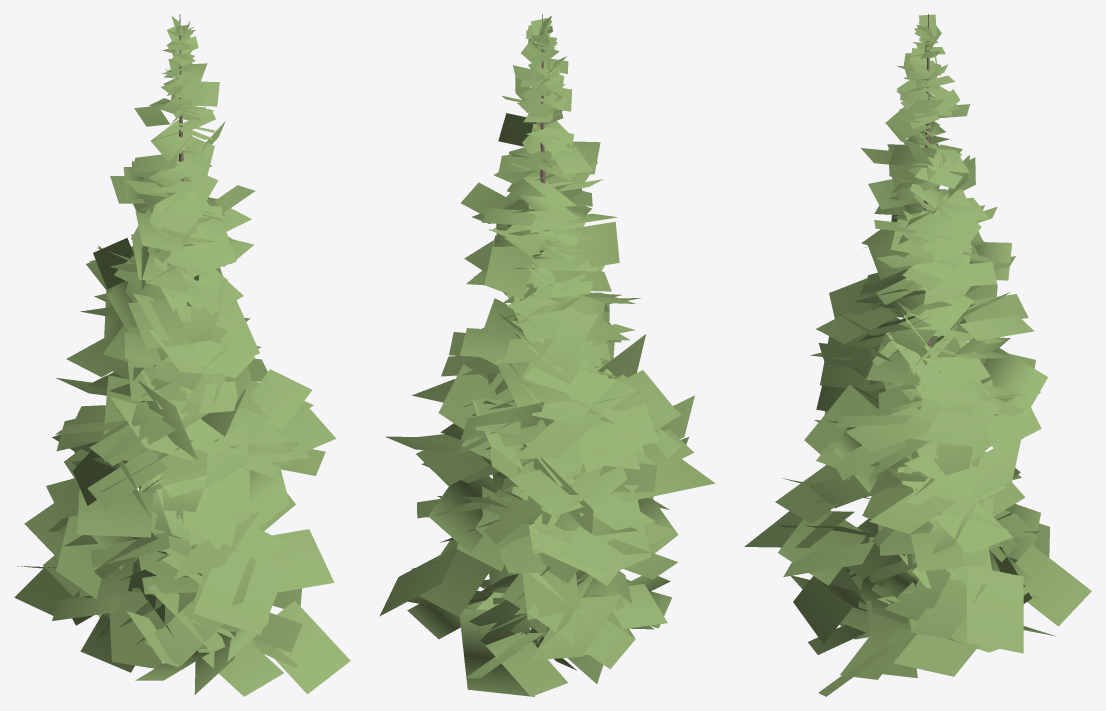
File: Conifer_3_lod2.glb
3 views of the same model, side by side, from view 1: azimuth 30°, elevation 25°; view 2: azimuth 150°, elevation 25°; view 3: azimuth 270°, elevation 25° (orthographic).
Visible parts, largest first — view 1: Conifer_3_lod2; view 2: Conifer_3_lod2; view 3: Conifer_3_lod2.
Boxes of the visible parts, left/top/right/bottom form: Conifer_3_lod2: left=14, top=14, right=350, bottom=696; Conifer_3_lod2: left=379, top=14, right=715, bottom=696; Conifer_3_lod2: left=744, top=14, right=1091, bottom=696.
Size of the model in its own units: 6.41 by 14.67 by 7.18.
